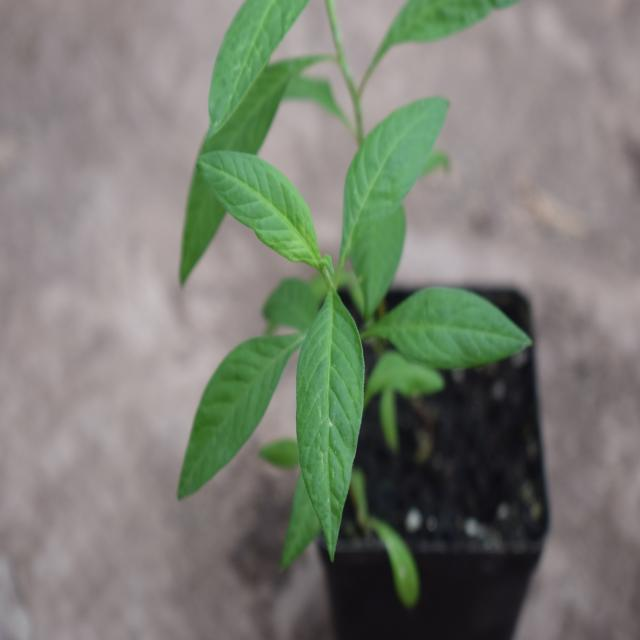white_smart_weed: (167, 98, 498, 504)
